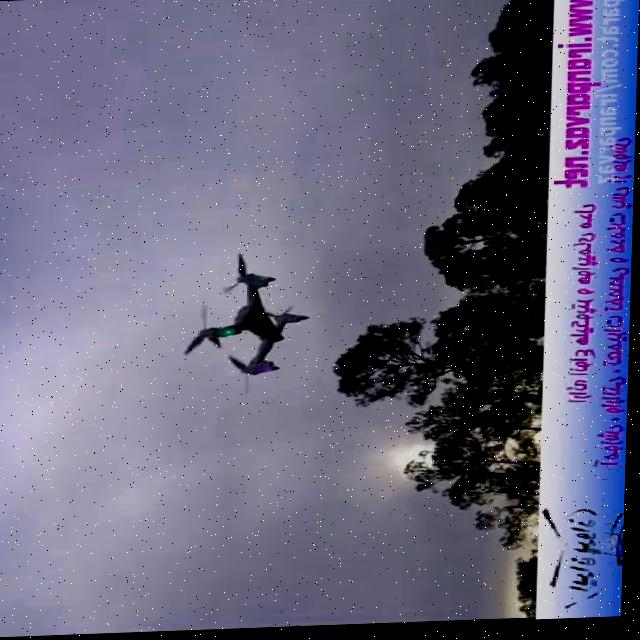drone: (179, 248, 314, 402)
